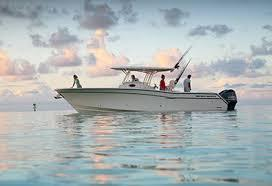fishing boat: (52, 44, 239, 115)
